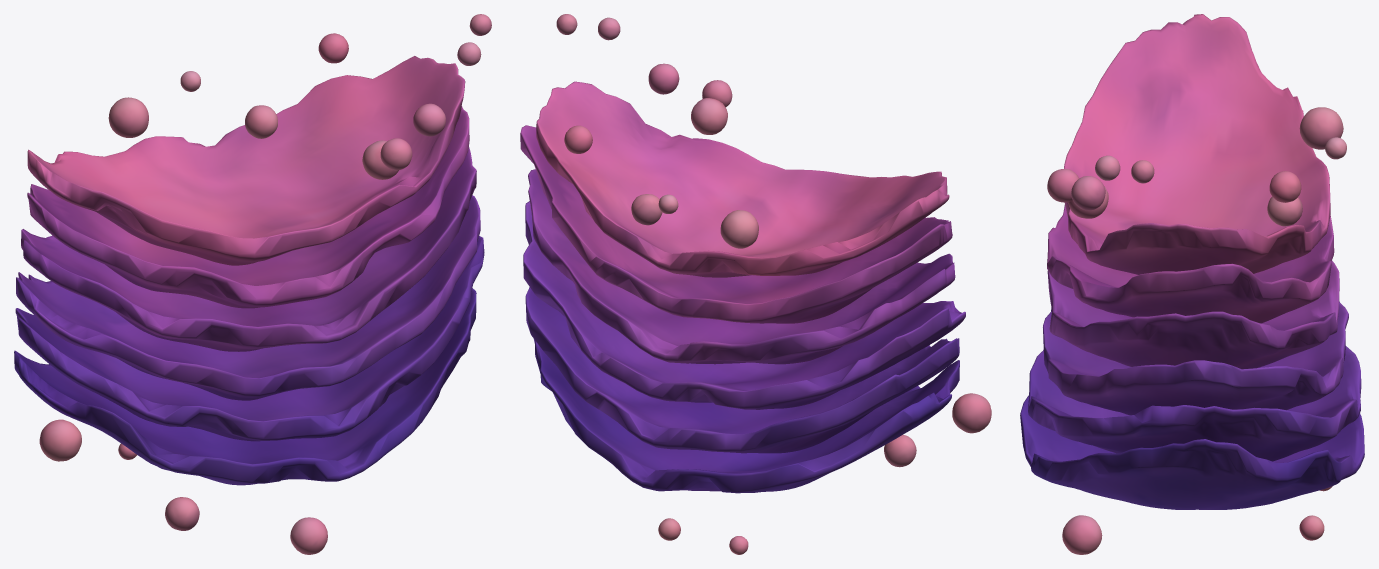
The model's file is golgi.glb.
3 views of the same model, side by side, from view 1: azimuth 30°, elevation 25°; view 2: azimuth 150°, elevation 25°; view 3: azimuth 270°, elevation 25° (orthographic). The views are drawn at different scales.
Parts seen in each view (by area): view 1: golgi-cisternae, golgi-vesicles; view 2: golgi-cisternae, golgi-vesicles; view 3: golgi-cisternae, golgi-vesicles.
Boxes of the visible parts, x1,y1,x2,y2 form: golgi-cisternae: (14, 56, 484, 485); golgi-vesicles: (39, 14, 491, 554); golgi-cisternae: (520, 81, 965, 493); golgi-vesicles: (556, 14, 991, 554); golgi-cisternae: (1020, 14, 1364, 509); golgi-vesicles: (1047, 107, 1346, 554).
Size of what is drawn, in the model's own units: 3.7 by 3.62 by 2.29.
